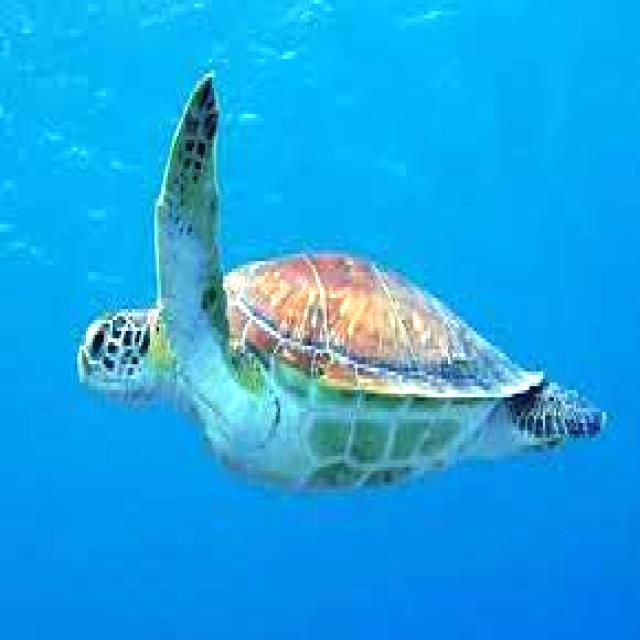Sea turtle: (71, 68, 614, 504)
